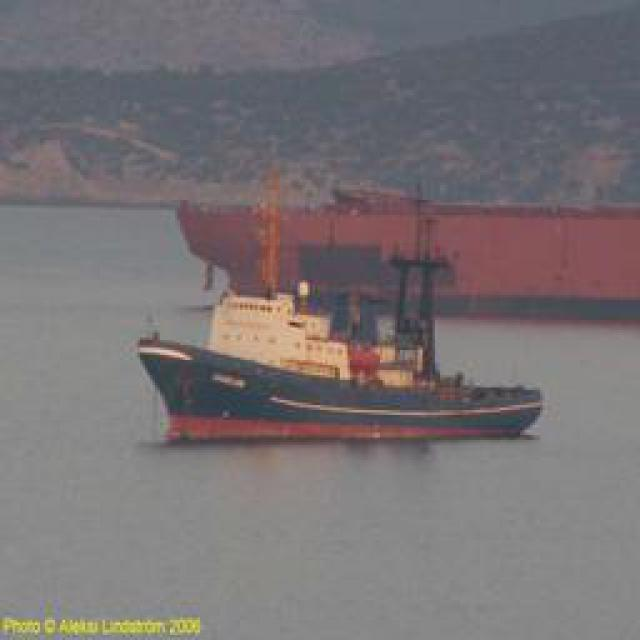Ship: (142, 250, 545, 440)
